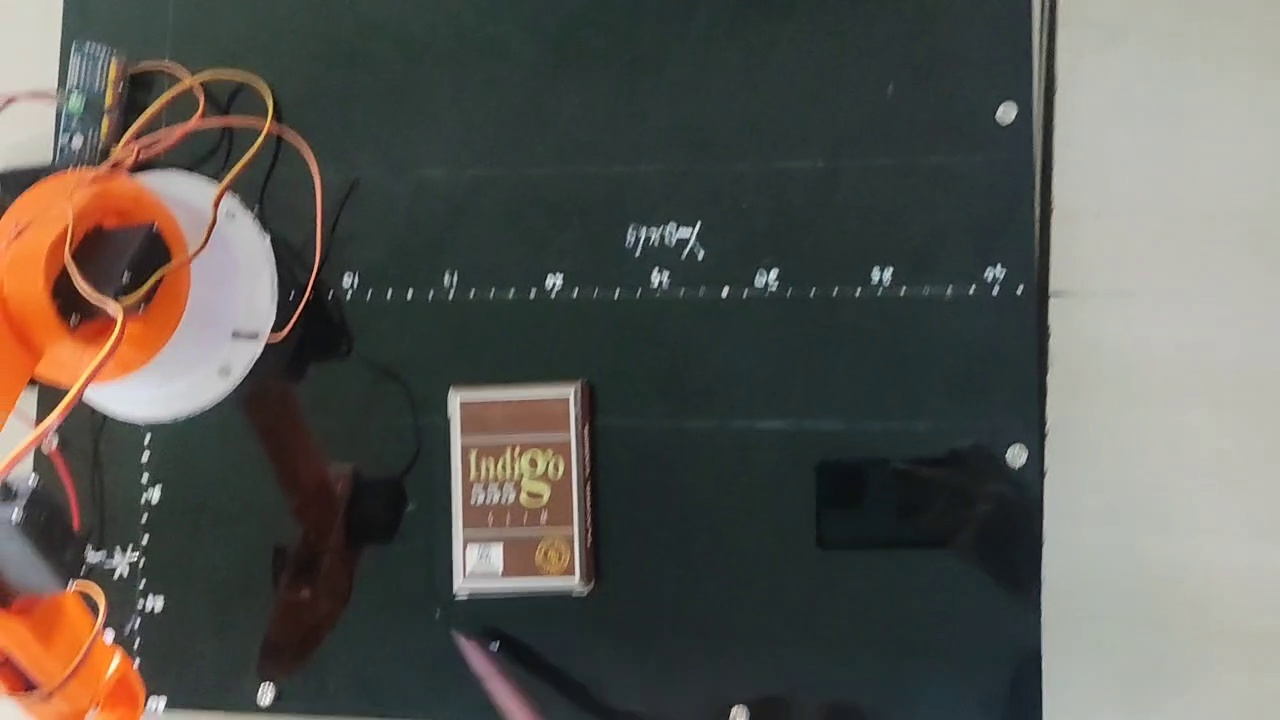BEX: (459, 393, 578, 580)
